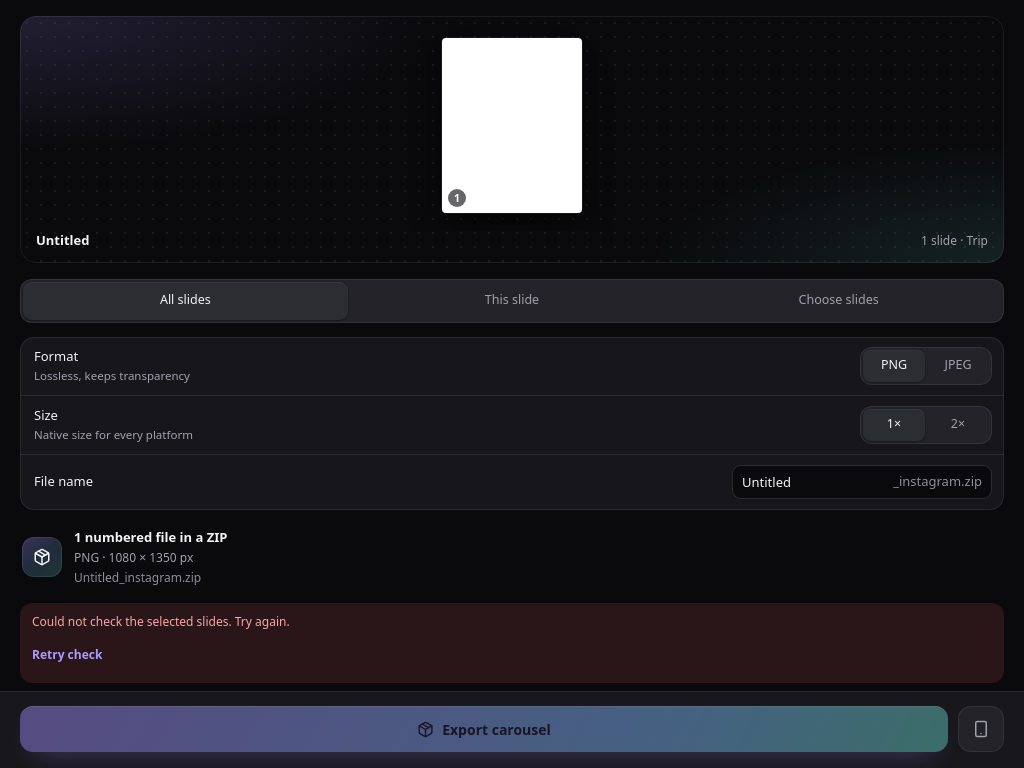
shared web export controls in the phone sheet › offers retry when media inspection fails
Check: the message "Could not check the selected slides. Try again." is shown, box [32,613,290,630]
Check: the button "Export carousel" is disabled, box [20,706,948,752]
Click the button "Retry check": (67, 655) [32,637,102,673]
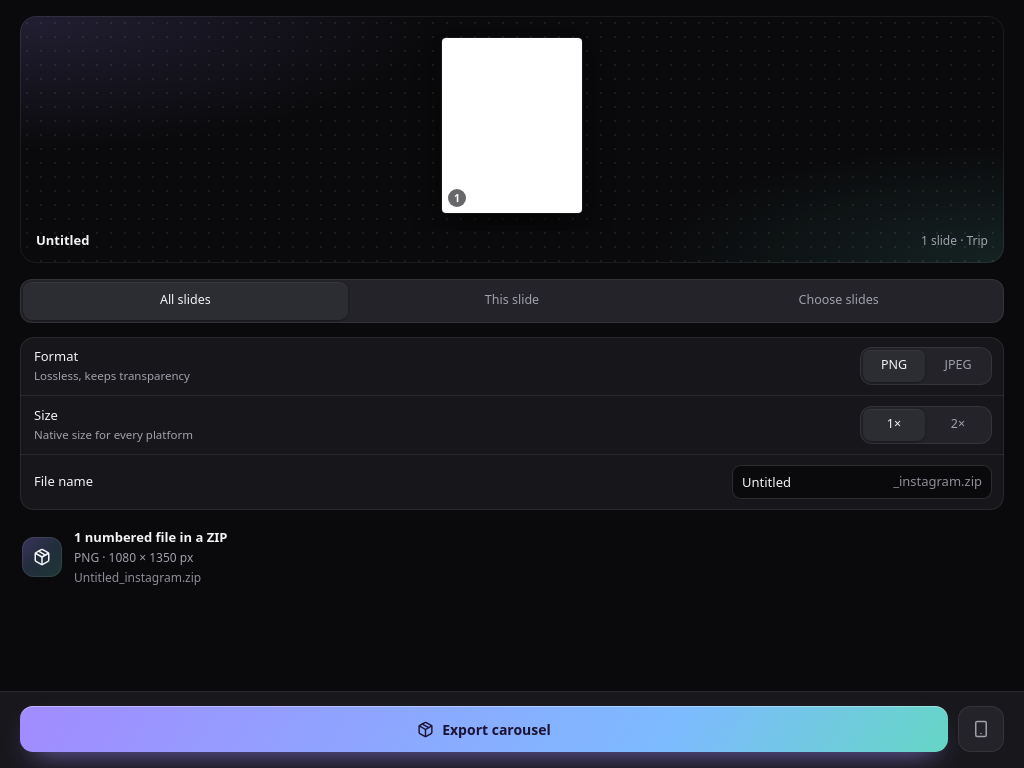
Check: the button "Export carousel" is enabled, box [20,706,948,752]
Check: the message "Could not check the selected slides. Try again." is gone
